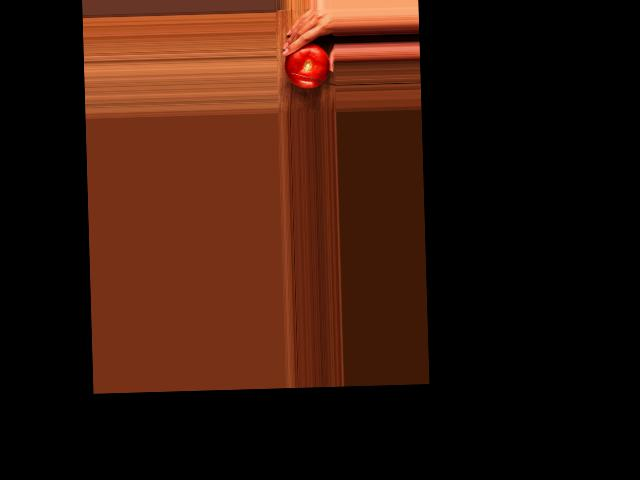tomato: (284, 42, 330, 88)
